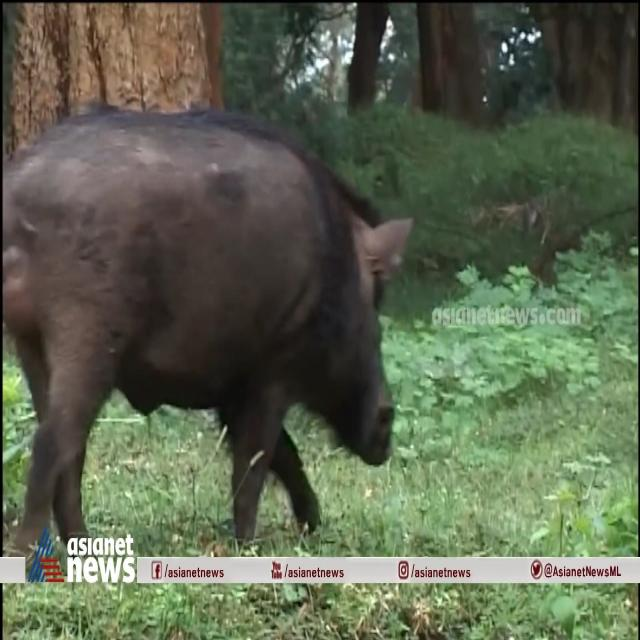WILD BOAR: (8, 104, 422, 529)
